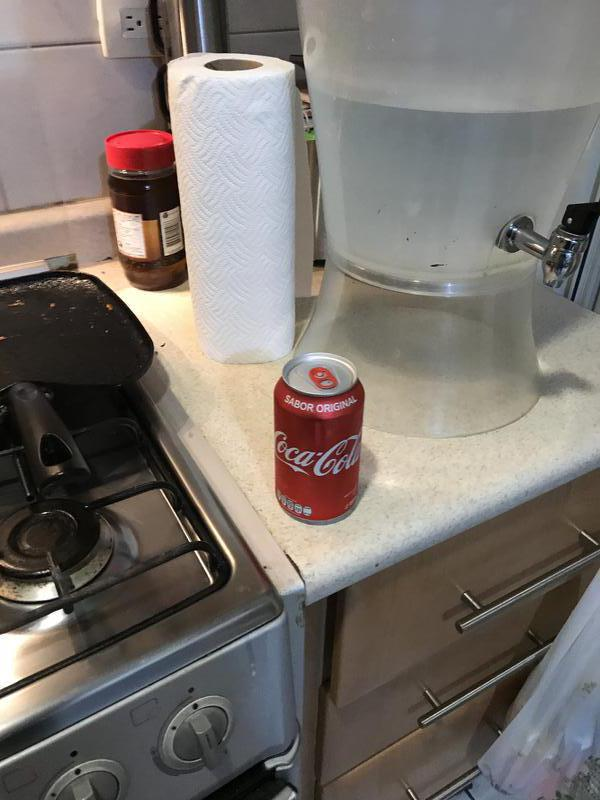coca_cola: (272, 353, 362, 520)
